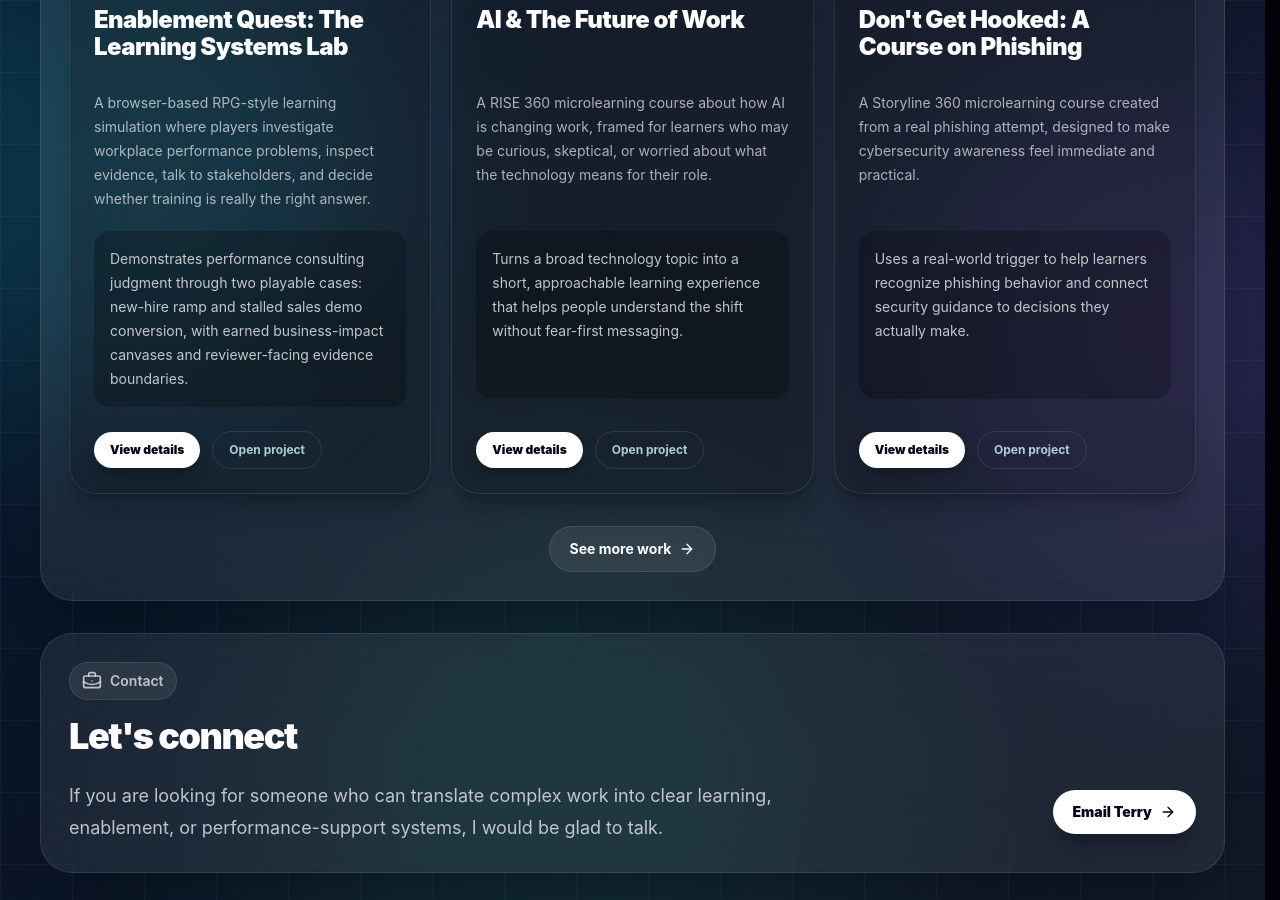
Test case: App default route › supports project swipes while preserving buttons, vertical scroll, pinch and browser edges
The width and height of the screenshot is (1280, 900).
(page scrolled)
Step 1. Click the 1st button "View details" → (147, 450), box x1=94 y1=432 x2=200 y2=468
(page scrolled)
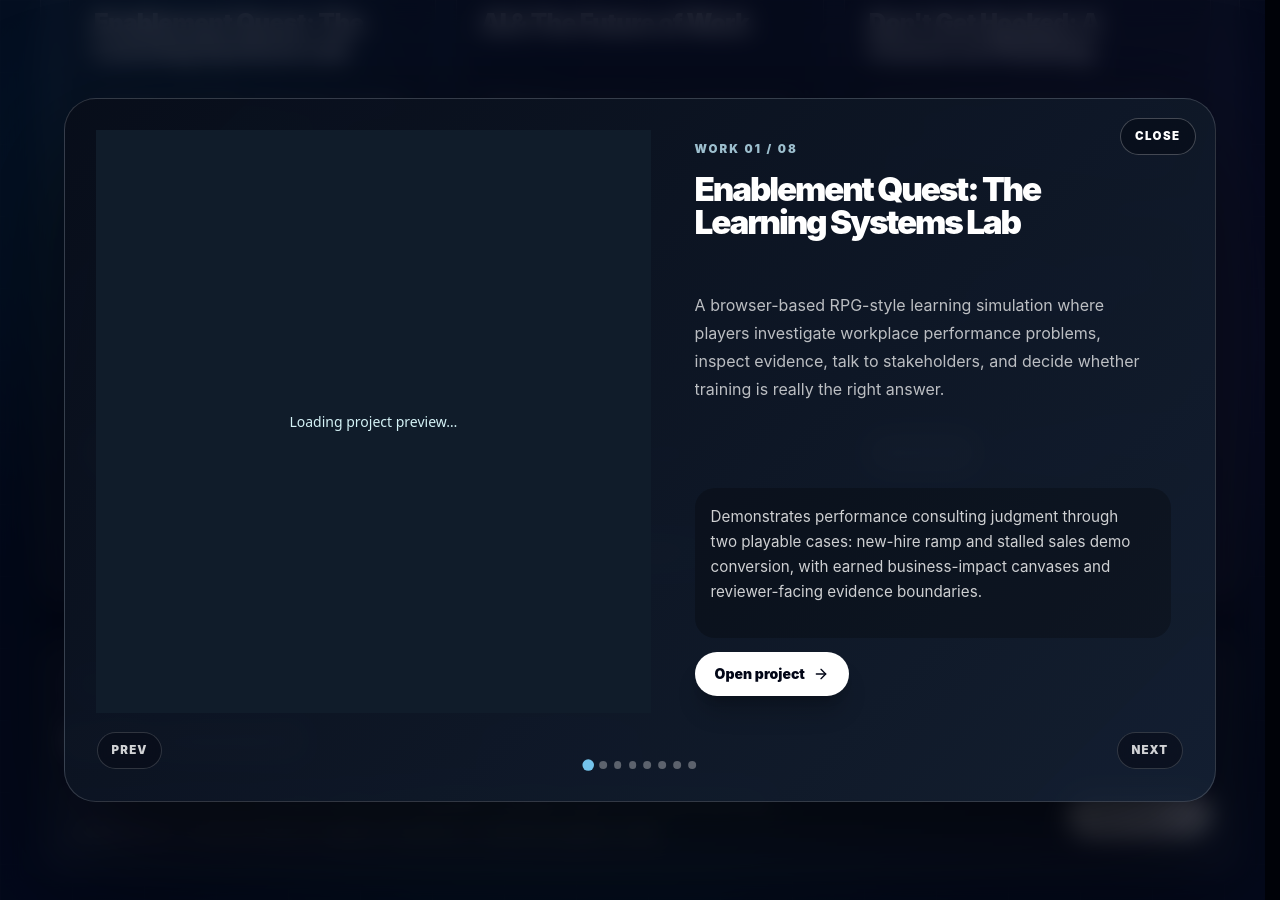
Step 2. Press the mouse on the element that starts with "Close" → (640, 450), box x1=64 y1=98 x2=1216 y2=802
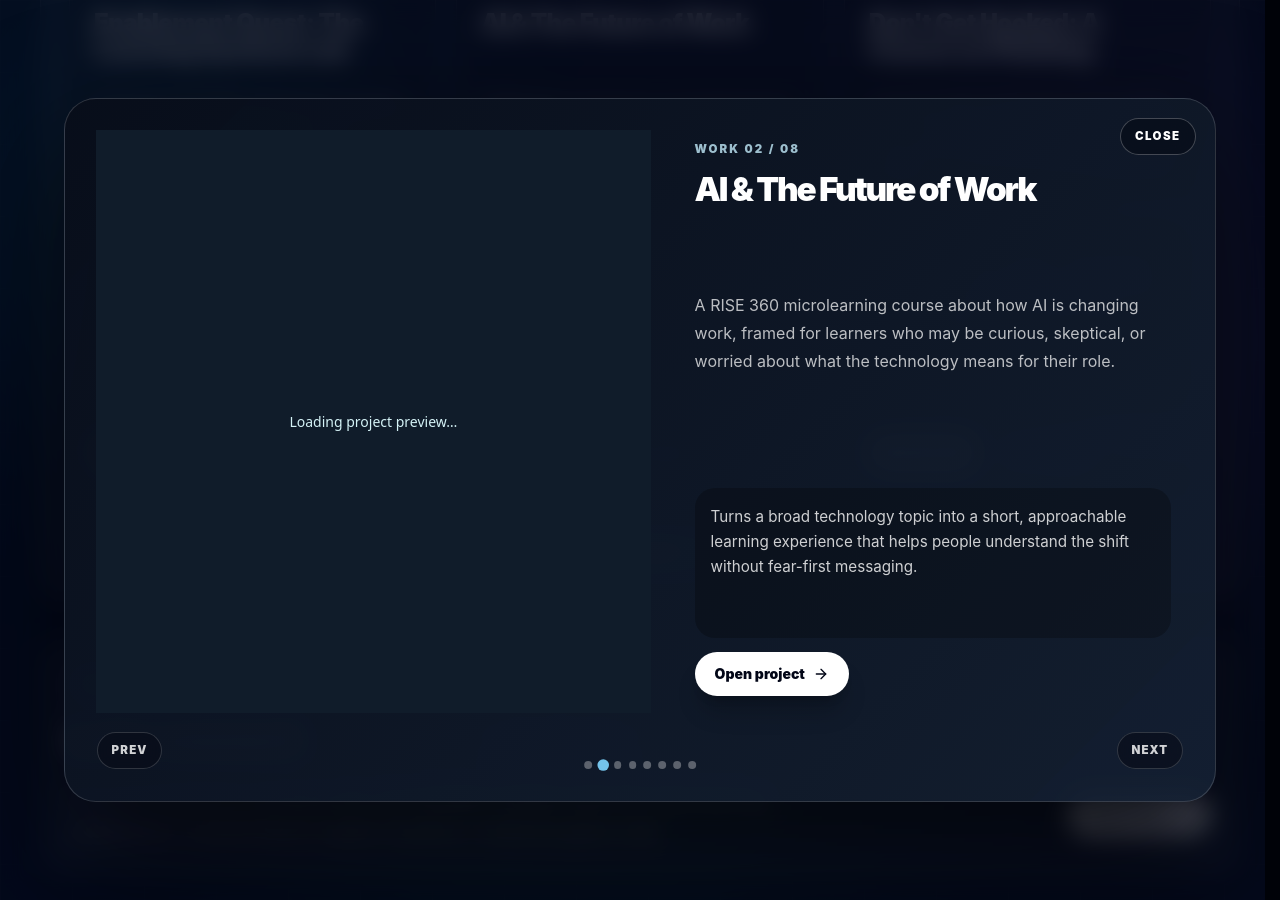
Expected: the heading does not show "Enablement Quest: The Learning Systems Lab"
Step 3. Press the mouse on the element that starts with "Close" → (640, 450), box x1=64 y1=98 x2=1216 y2=802
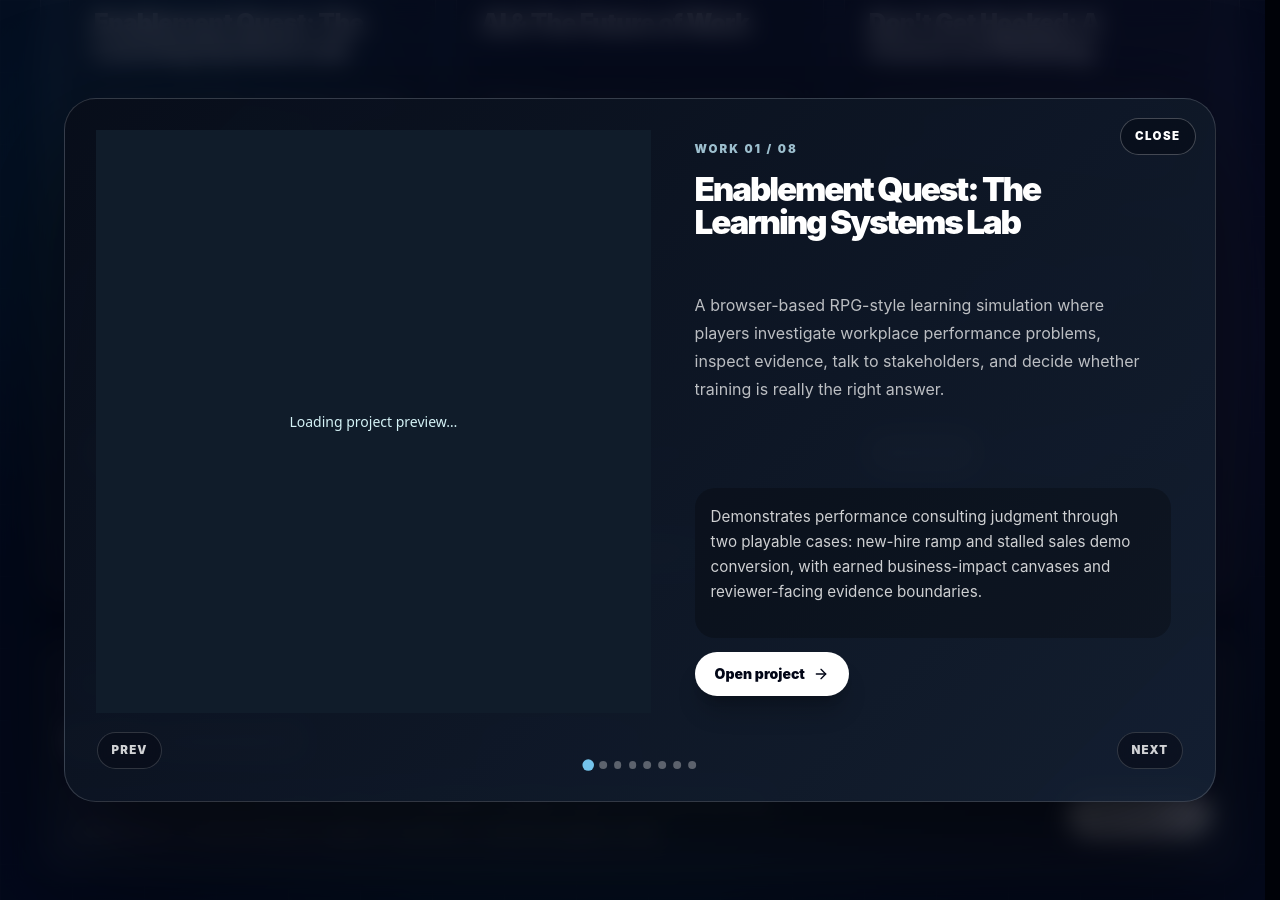
Now the heading reads "Enablement Quest: The Learning Systems Lab", box x1=695 y1=169 x2=1040 y2=242
Step 4. Press the mouse on the element that starts with "Close" → (640, 450), box x1=64 y1=98 x2=1216 y2=802
Step 5. Press the mouse on the element that starts with "Close" → (640, 450), box x1=64 y1=98 x2=1216 y2=802
Step 6. Press the mouse on the element that starts with "Close" → (640, 450), box x1=64 y1=98 x2=1216 y2=802
Now the heading reads "Enablement Quest: The Learning Systems Lab", box x1=695 y1=169 x2=1040 y2=242
Step 7. Click the button "Next" → (1150, 751), box x1=1117 y1=732 x2=1183 y2=769
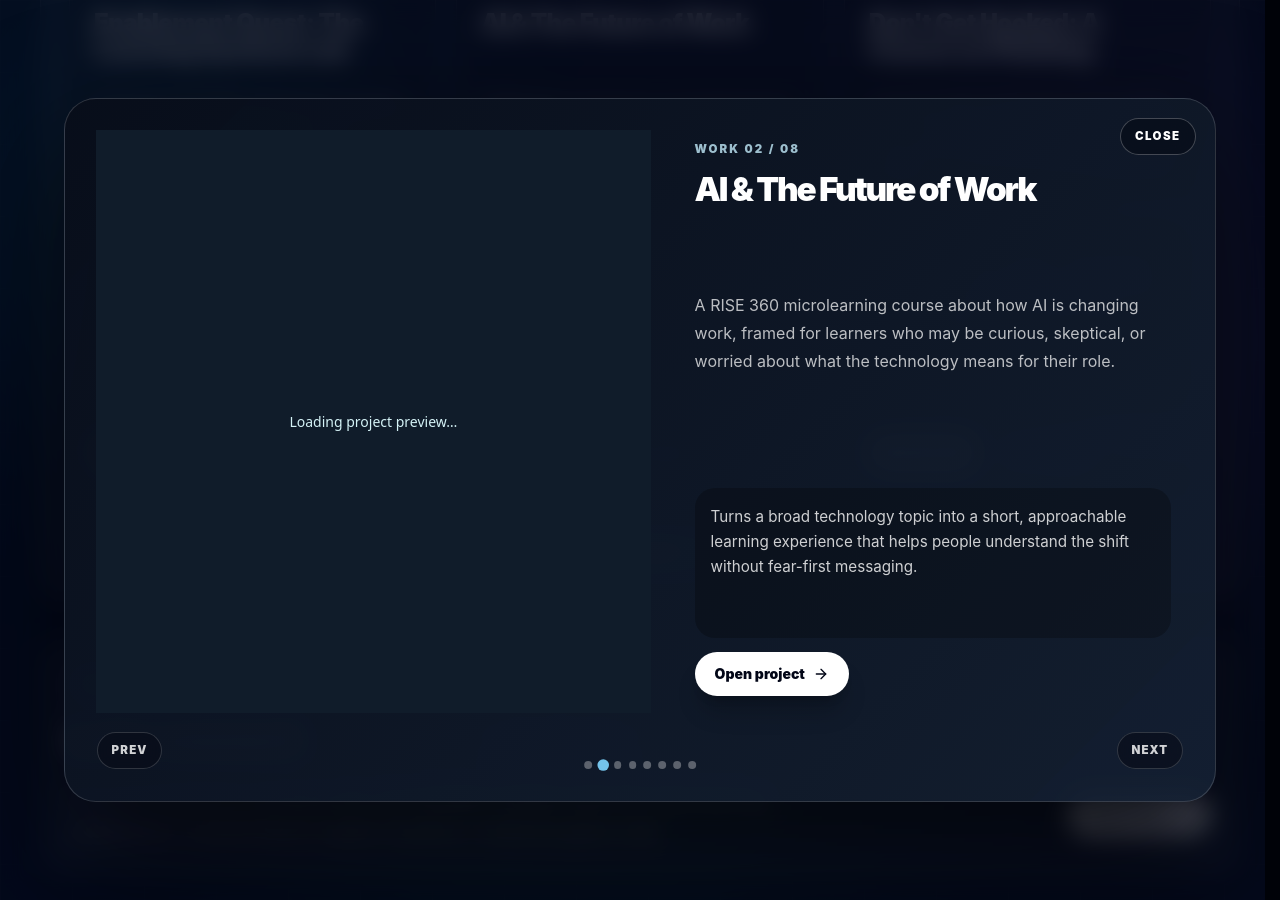
Expected: the heading does not show "Enablement Quest: The Learning Systems Lab"
Step 8. Click the button "Prev" → (130, 751), box x1=97 y1=732 x2=162 y2=769
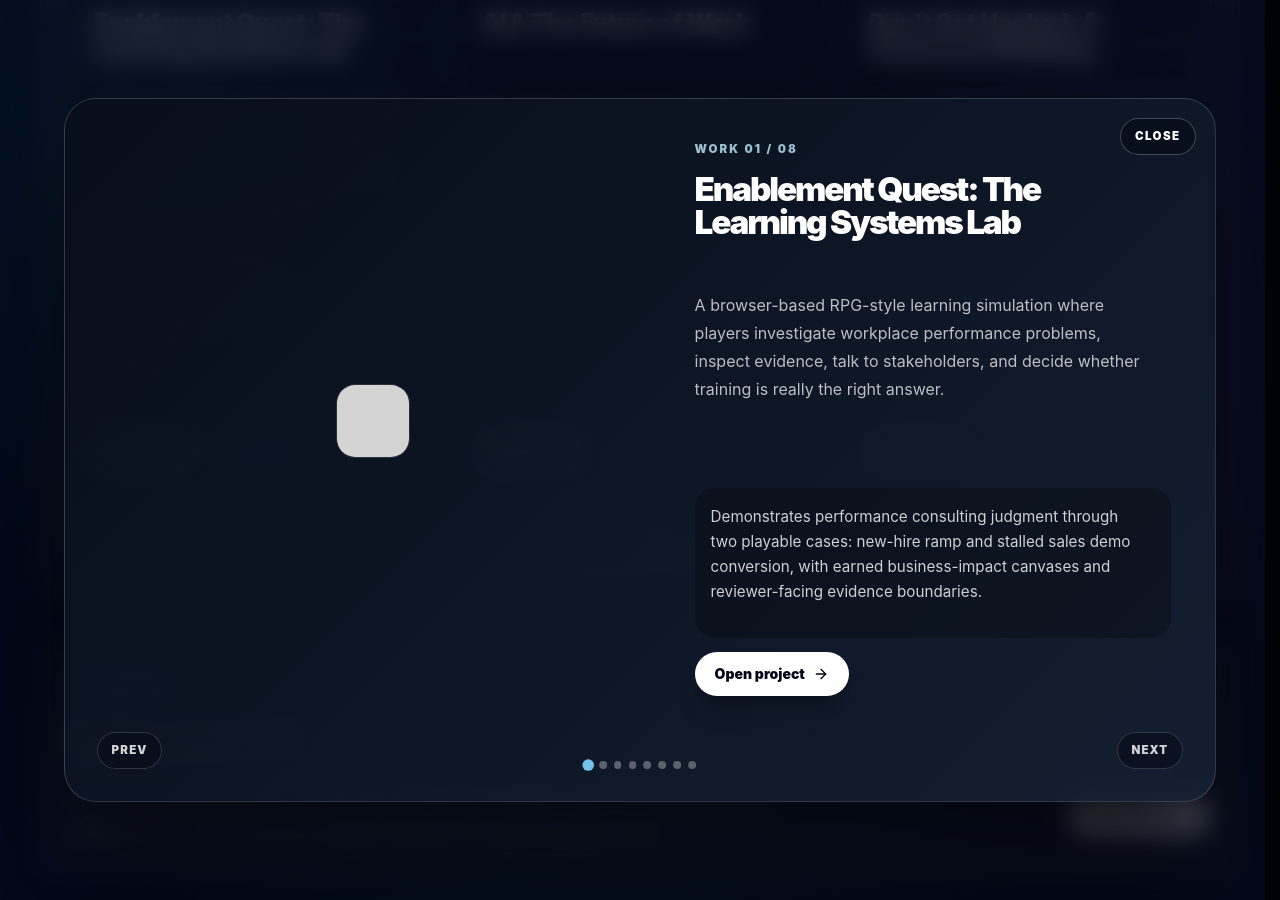
Now the heading reads "Enablement Quest: The Learning Systems Lab", box x1=695 y1=169 x2=1040 y2=242
